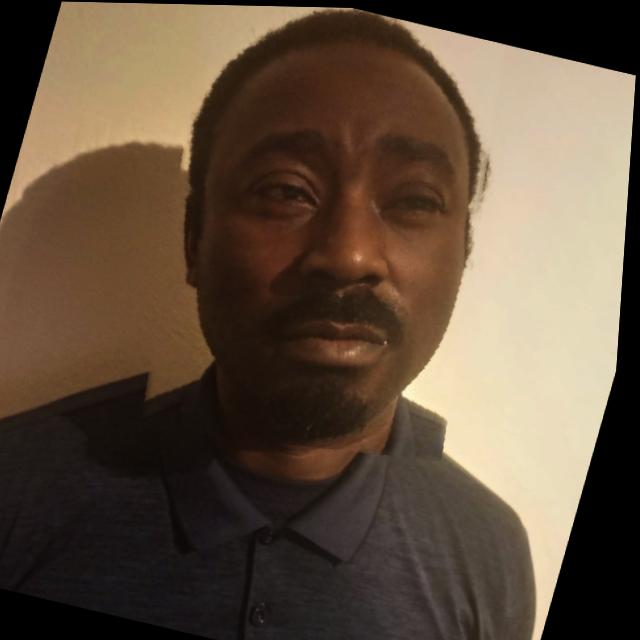sad: (105, 2, 544, 484)
